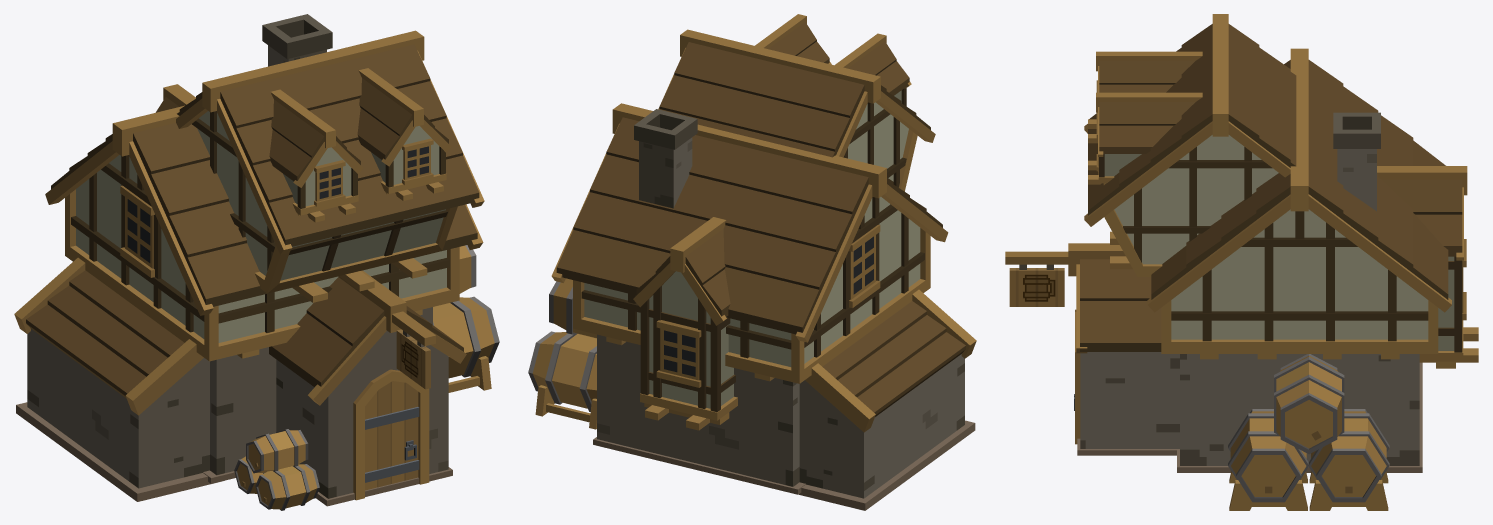
The model's file is SF_Bld_House_Tavern_01.fbx.
3 renders of one model, left to right at view 1: azimuth 30°, elevation 25°; view 2: azimuth 150°, elevation 25°; view 3: azimuth 270°, elevation 25°, orthographic. The views are drawn at different scales.
Visible parts, largest first — view 1: SF_Bld_House_Tavern_01; view 2: SF_Bld_House_Tavern_01; view 3: SF_Bld_House_Tavern_01.
Part boxes in pixels (x1,y1,x2,y2): SF_Bld_House_Tavern_01: [14, 14, 499, 510]; SF_Bld_House_Tavern_01: [528, 14, 976, 510]; SF_Bld_House_Tavern_01: [1005, 14, 1478, 510].
Size of the model in its own units: 14.21 by 13.14 by 15.47.
